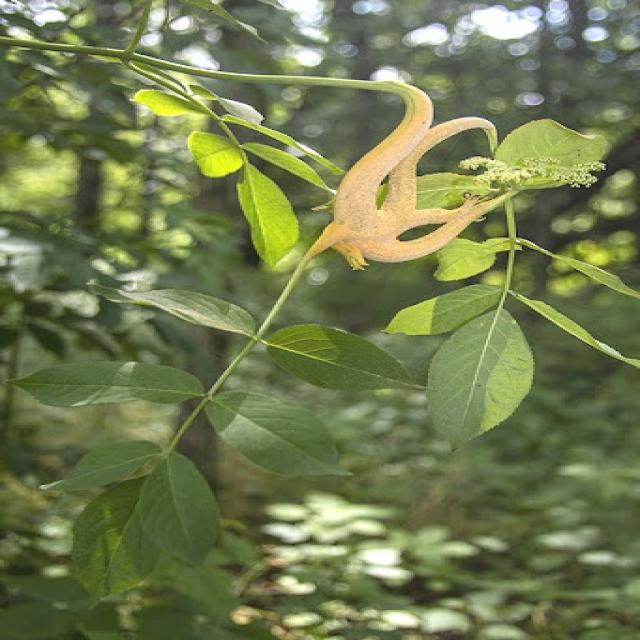Elderberry_rust: (298, 79, 503, 272)
